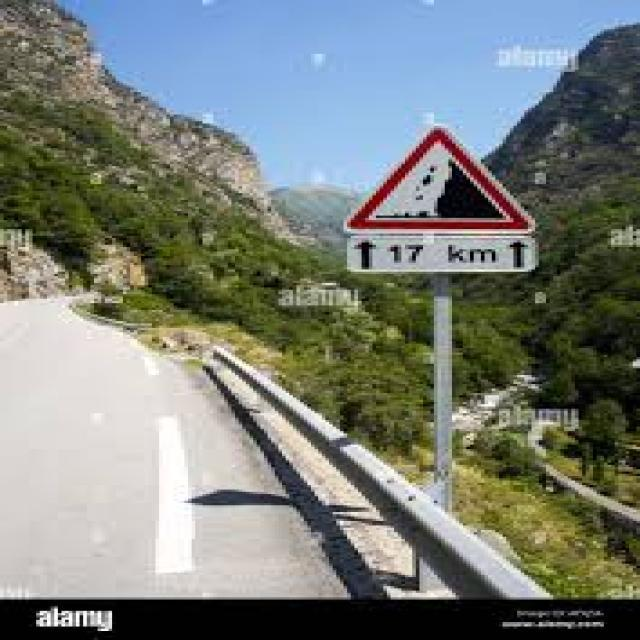falling rocks: (335, 116, 548, 240)
